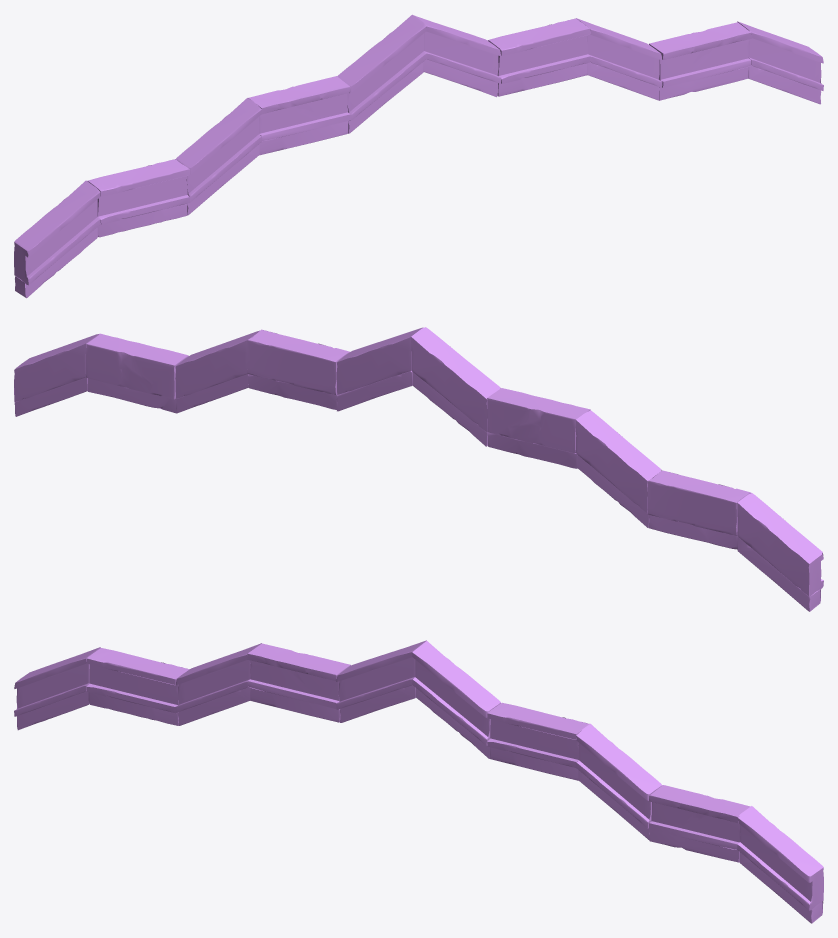
File: Bridge_small_05_side_02.fbx
3 views of the same model, one above another, from view 1: azimuth 30°, elevation 25°; view 2: azimuth 150°, elevation 25°; view 3: azimuth 330°, elevation 25° (orthographic).
Parts seen in each view (by area): view 1: Bridge_small_05_side_02_LOD0; view 2: Bridge_small_05_side_02_LOD0; view 3: Bridge_small_05_side_02_LOD0.
Boxes of the visible parts, x1=… form: Bridge_small_05_side_02_LOD0: x1=14, y1=14, x2=823, y2=298; Bridge_small_05_side_02_LOD0: x1=14, y1=327, x2=823, y2=611; Bridge_small_05_side_02_LOD0: x1=14, y1=640, x2=823, y2=923.
Size of what is drawn, in the model's own units: 1623 by 348 by 52.55.
